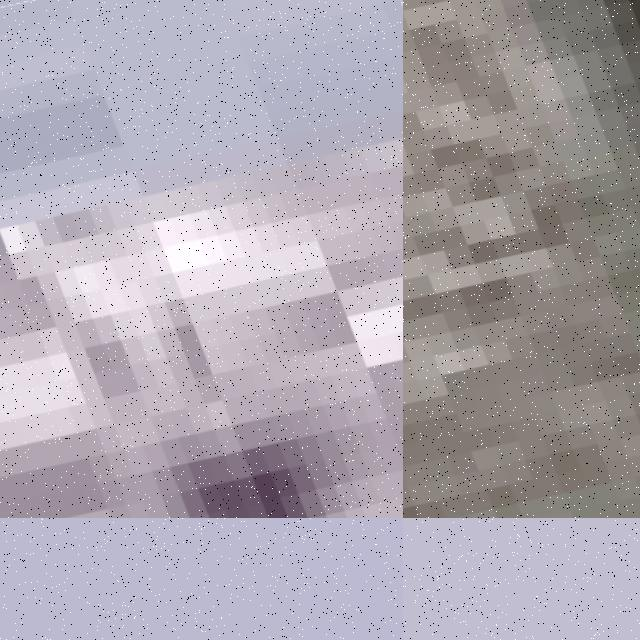drone: (0, 0, 403, 518), (403, 0, 640, 518)
